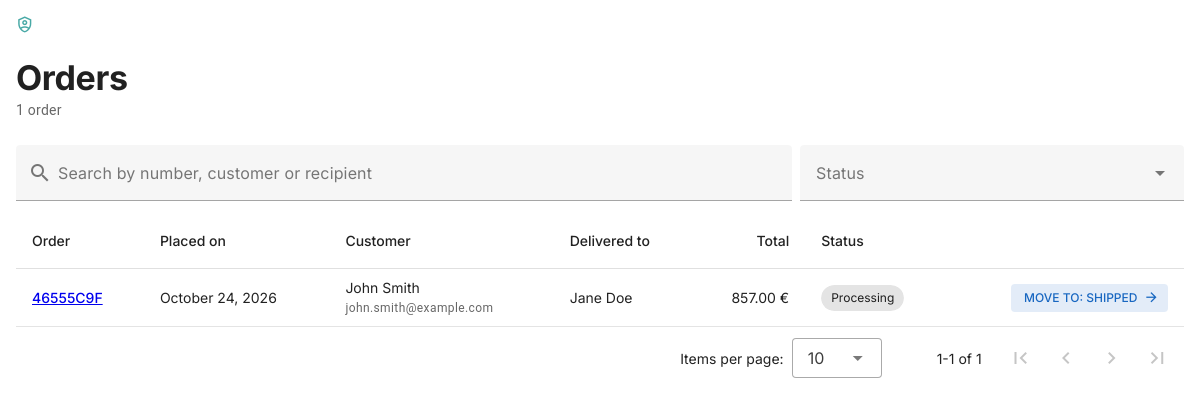
AdminOrders.vue › says that no order matches the filters
Type "nobody" into the field labelled "Search by number, customer or recipient" at (416, 173), box [52,145,780,201]
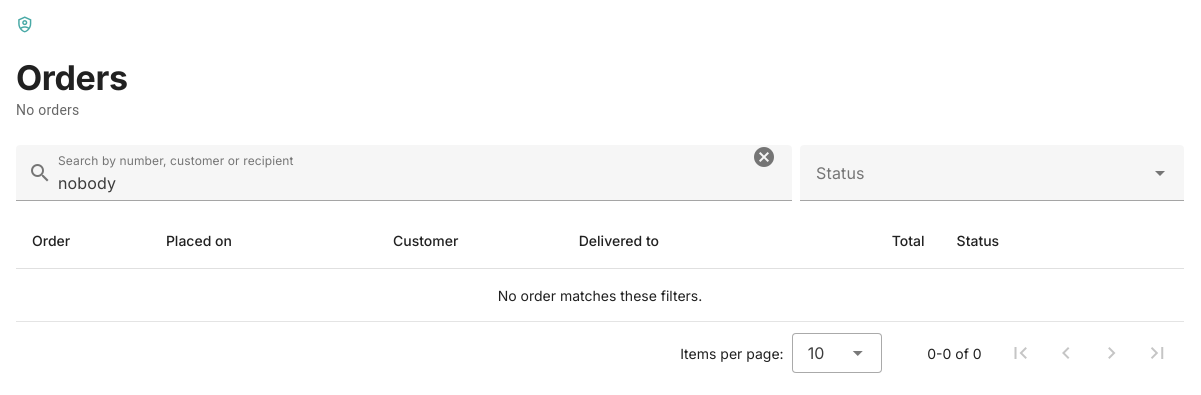
Now the text "No order matches these filters." is shown, box [16,269,1184,321]
